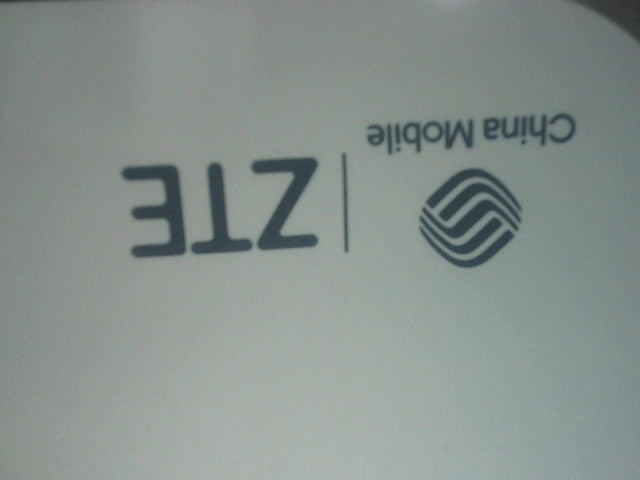AL_ZTEChinaMobile: (103, 102, 587, 273)
